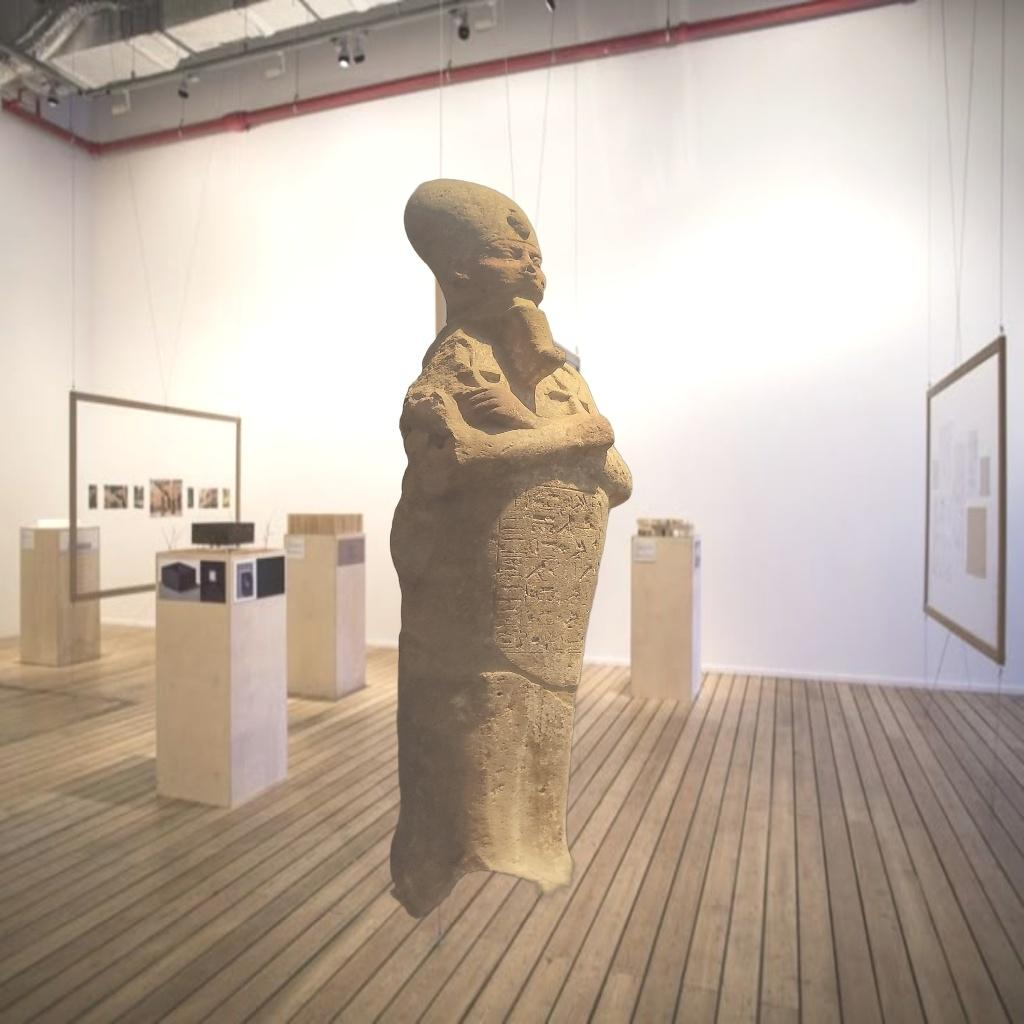Statue of Mentuhotep II: (382, 172, 648, 980)
